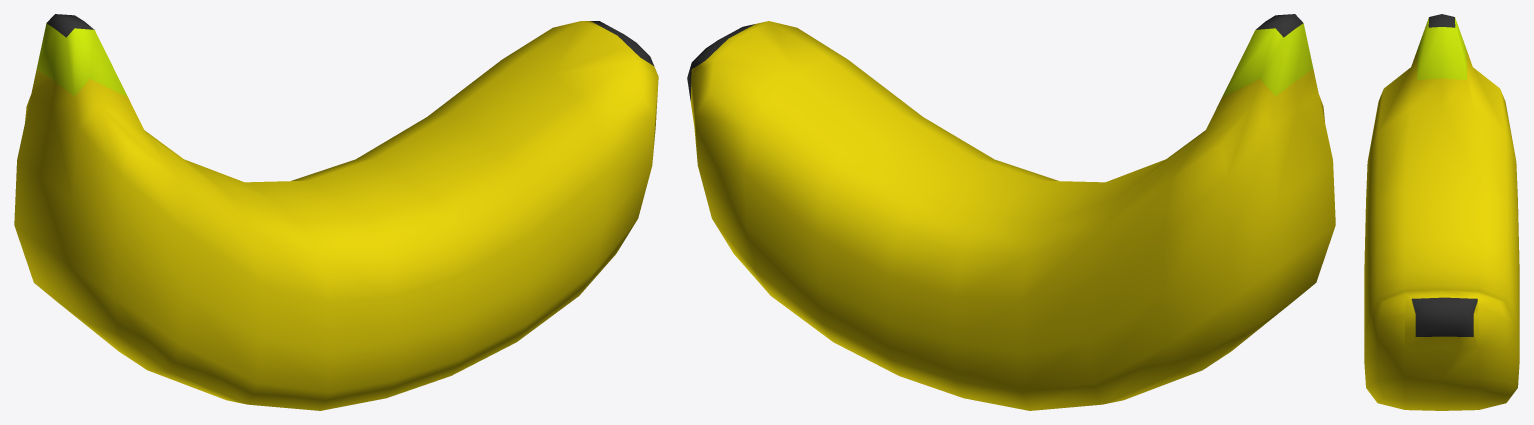
File: Banana.fbx
The picture shows the model from 3 angles, left to right: view 1: azimuth 30°, elevation 25°; view 2: azimuth 150°, elevation 25°; view 3: azimuth 270°, elevation 25°; orthographic projection. The views are drawn at different scales.
Visible parts, largest first — view 1: Cube; view 2: Cube; view 3: Cube.
Part boxes in pixels (x1=…): Cube: x1=14, y1=14, x2=658, y2=410; Cube: x1=687, y1=14, x2=1335, y2=410; Cube: x1=1364, y1=14, x2=1519, y2=410.
Size of the model in its own units: 15 by 10 by 5.
